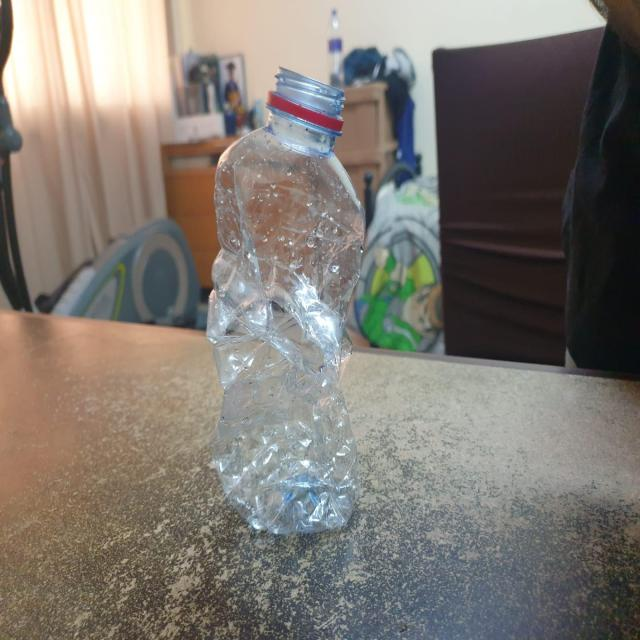bottle: (210, 75, 362, 539)
